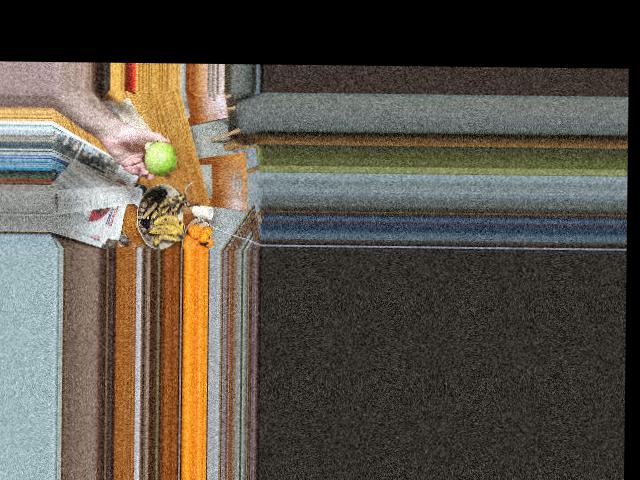apple: (140, 138, 179, 176)
